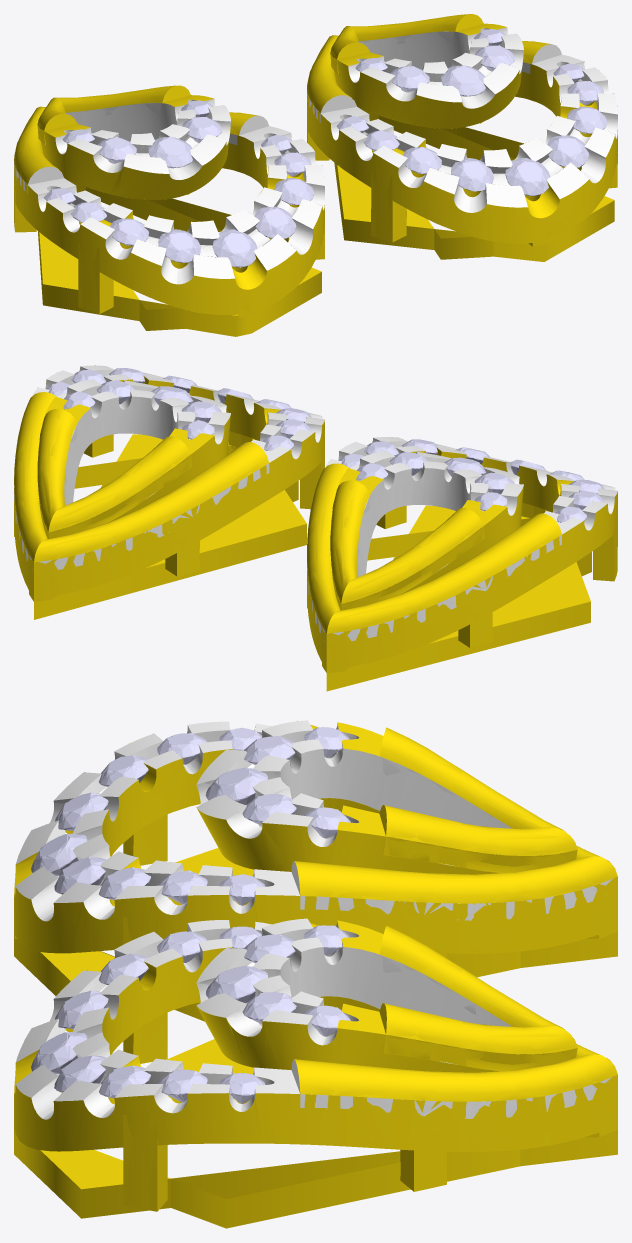
3 views of the same model, one above another, from view 1: azimuth 30°, elevation 25°; view 2: azimuth 150°, elevation 25°; view 3: azimuth 270°, elevation 25° (orthographic). The views are drawn at different scales.
Parts seen in each view (by area): view 1: highPolyMesh, lowPolyMesh; view 2: highPolyMesh, lowPolyMesh; view 3: highPolyMesh, lowPolyMesh.
Boxes of the visible parts, x1=… form: highPolyMesh: x1=14, y1=14, x2=617, y2=336; lowPolyMesh: x1=14, y1=14, x2=617, y2=335; highPolyMesh: x1=14, y1=365, x2=617, y2=691; lowPolyMesh: x1=14, y1=365, x2=617, y2=673; highPolyMesh: x1=14, y1=720, x2=617, y2=1228; lowPolyMesh: x1=14, y1=721, x2=617, y2=1228.
Bounding box in the file's own units: 0.019 × 0.00449 × 0.0131.
